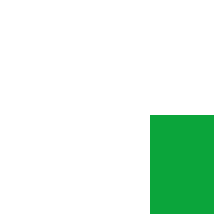rectangle: (150, 115, 213, 213)
